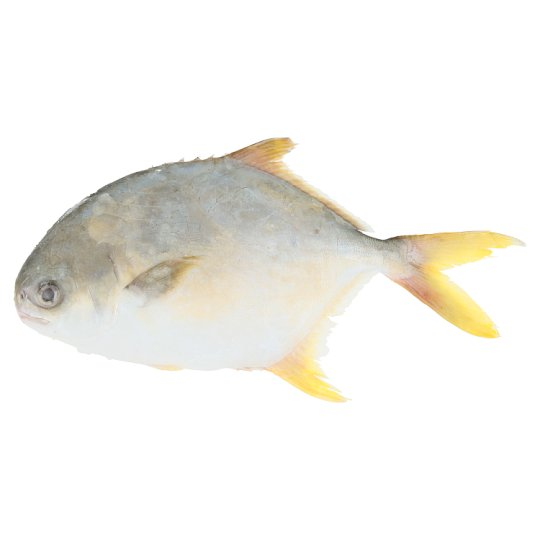Ikan Bawal: (22, 124, 523, 407)
